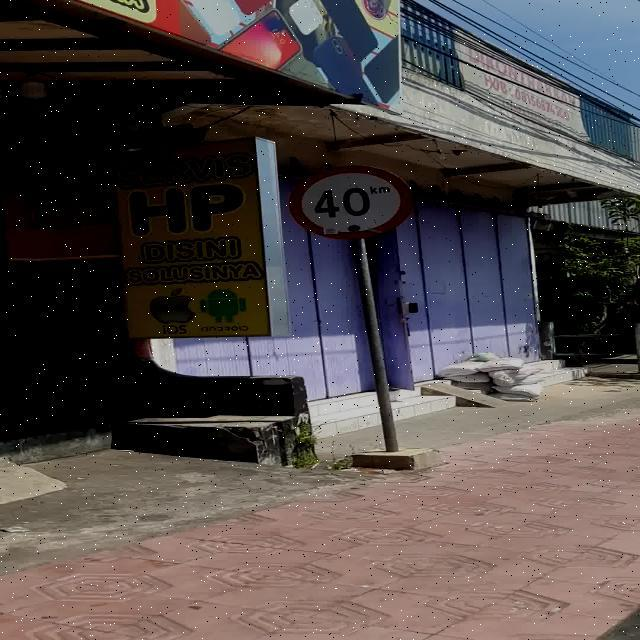Kecepatan Maks. 40 km: (288, 163, 416, 240)
